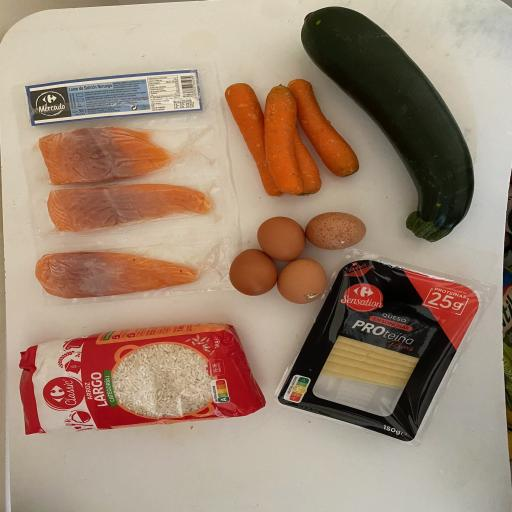carrot: (222, 78, 289, 201), (284, 77, 364, 180), (259, 78, 309, 199), (290, 111, 326, 198)
cheese: (272, 256, 486, 446)
courgette: (296, 3, 478, 245)
egg: (301, 210, 369, 252), (275, 255, 330, 306), (255, 213, 308, 264), (228, 246, 279, 298)
rice: (14, 320, 270, 438)
salmon: (32, 247, 205, 301), (44, 183, 216, 237), (36, 124, 179, 186)
